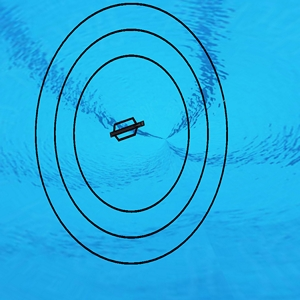circle: (28, 2, 230, 290)
submarine: (112, 122, 152, 140)
